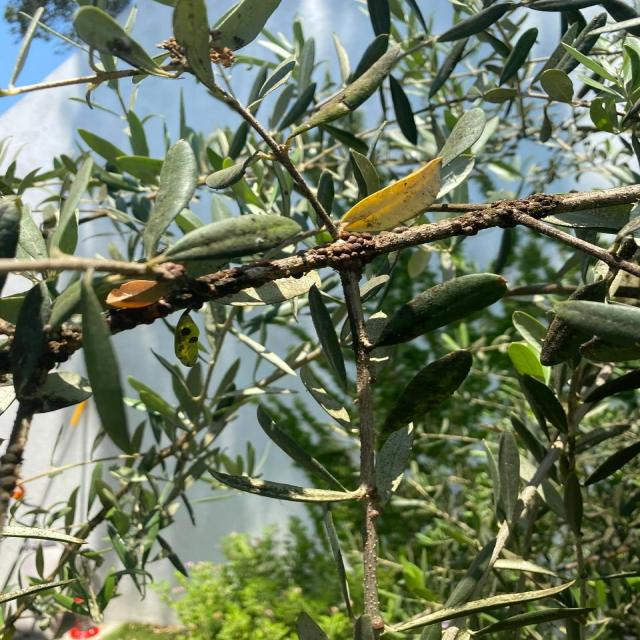Black Scale: (469, 194, 559, 229), (305, 231, 376, 274), (0, 438, 25, 504), (365, 488, 381, 521), (372, 616, 385, 630)
Peacock Eye: (379, 350, 472, 440), (341, 158, 441, 232), (175, 311, 202, 367)
